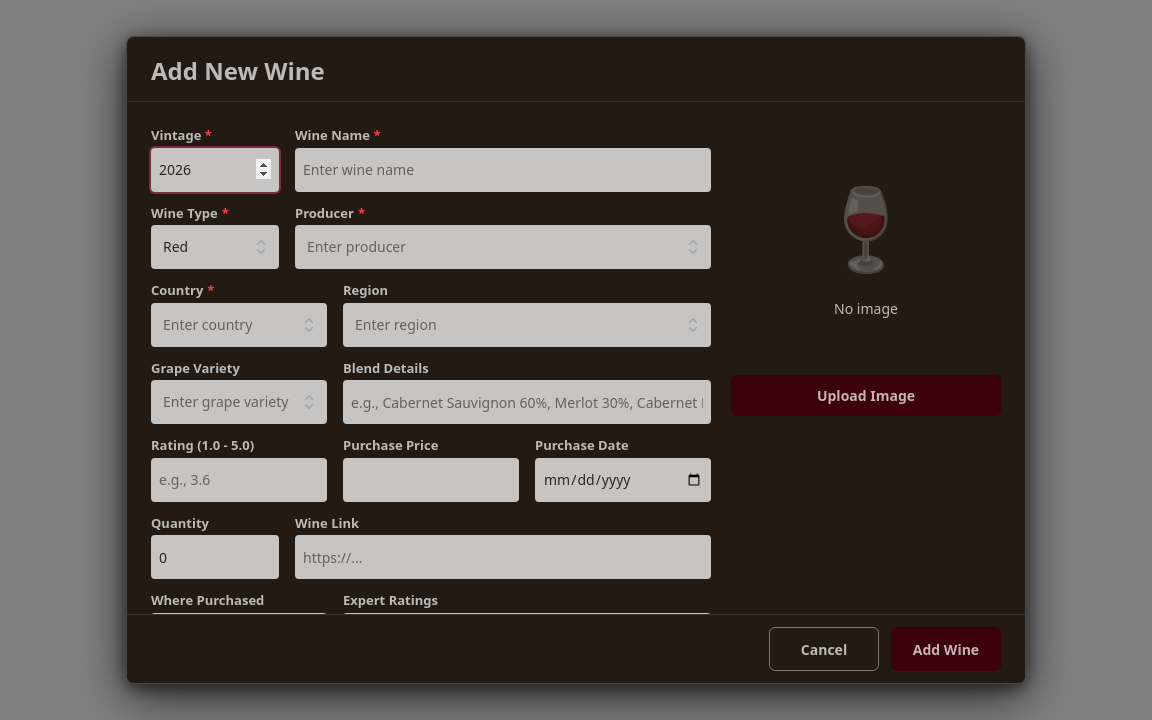
Test: WineDetailModal › Form Validation › validates required field - name
This screenshot has width=1152, height=720.
Note: Clear the name field and try to submit
Step 1. Clear the field with placeholder "Enter wine name" → (503, 170), box x1=295 y1=148 x2=711 y2=192
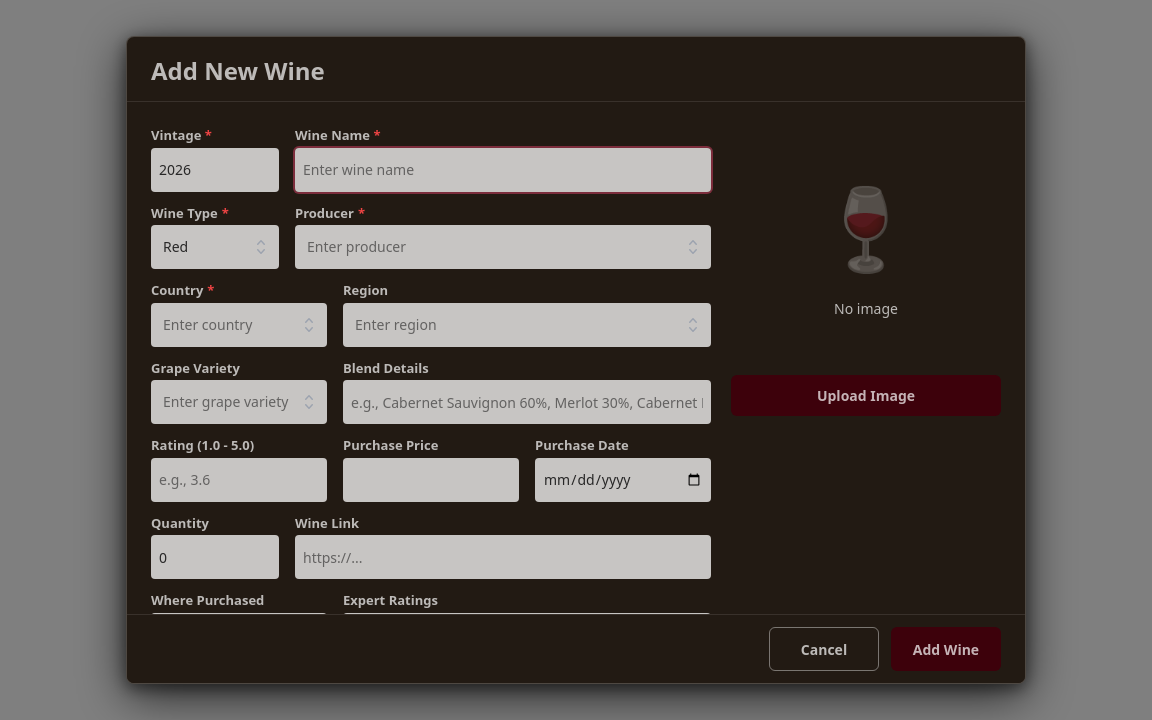
Step 2. Click the button "Add Wine" → (946, 649), box x1=891 y1=627 x2=1001 y2=671
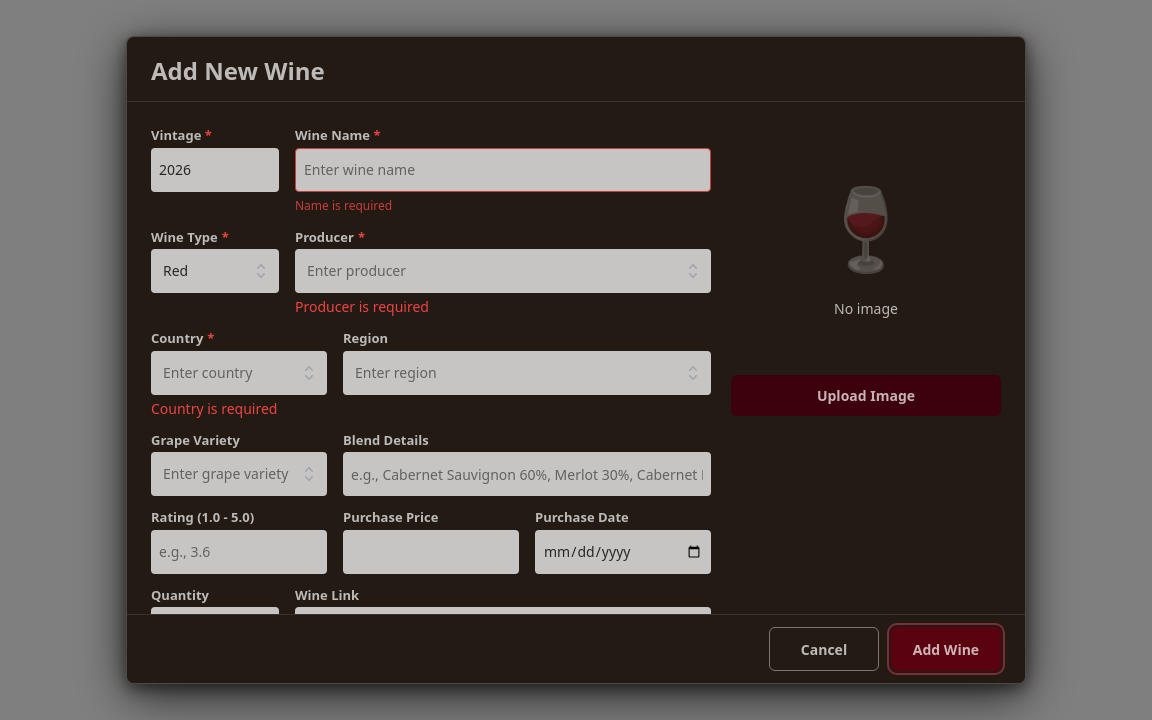
Result: the text "Name is required" is shown at x1=295 y1=196 x2=392 y2=214
